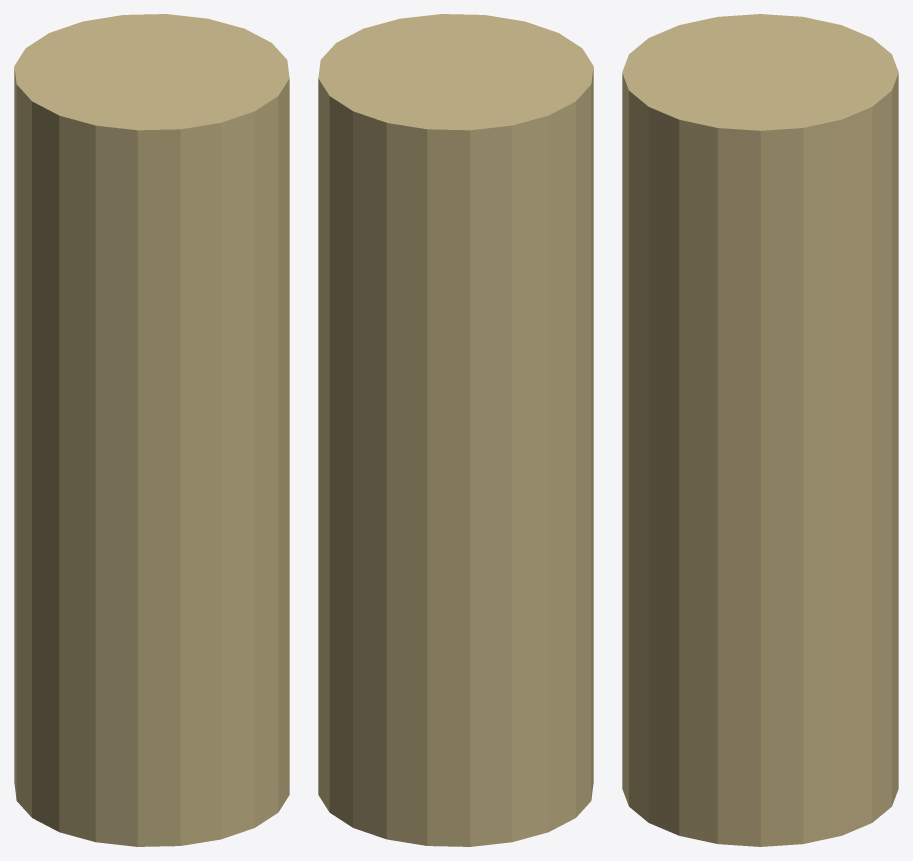
Rendered from 104_L103_ViaRepair_2.glb.
3 views of the same model, side by side, from view 1: azimuth 30°, elevation 25°; view 2: azimuth 150°, elevation 25°; view 3: azimuth 270°, elevation 25° (orthographic).
Visible parts, largest first — view 1: PlatedViaBarrel; view 2: PlatedViaBarrel; view 3: PlatedViaBarrel.
Part boxes in pixels (bbox=[...]): PlatedViaBarrel: bbox=[14, 14, 289, 846]; PlatedViaBarrel: bbox=[318, 14, 593, 846]; PlatedViaBarrel: bbox=[622, 14, 898, 846].
Size of the model in its own units: 0.0014 by 0.004 by 0.0014.
